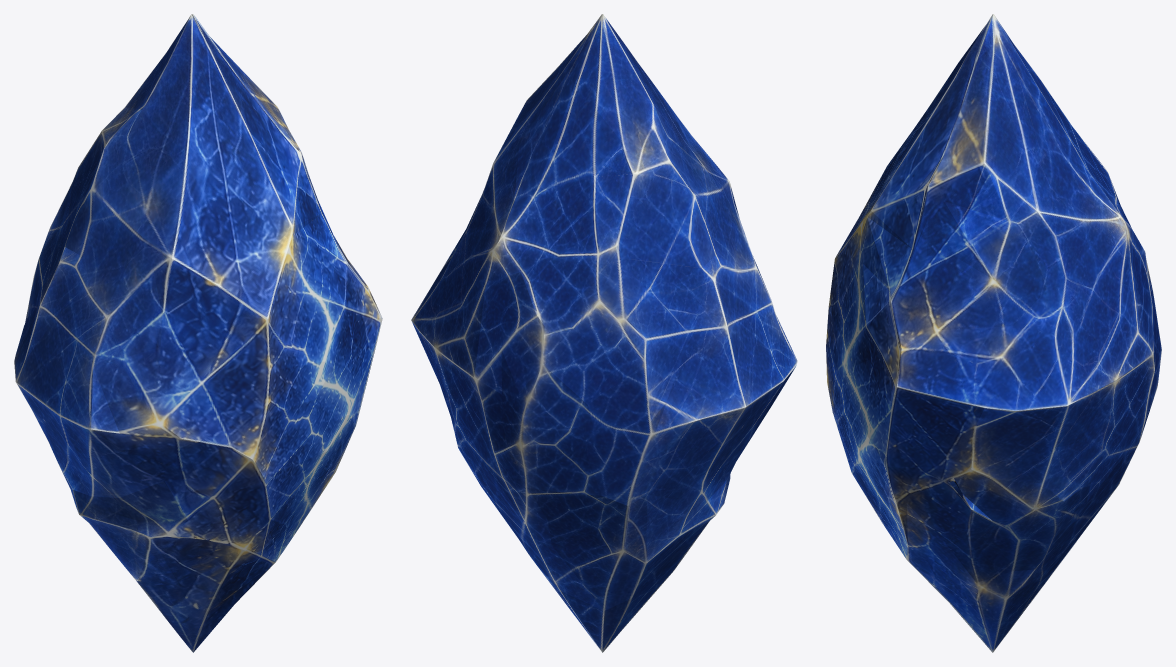
The model's file is SM_ElementGem_Electric.fbx.
3 renders of one model, left to right at view 1: azimuth 30°, elevation 25°; view 2: azimuth 150°, elevation 25°; view 3: azimuth 270°, elevation 25°, orthographic.
Parts seen in each view (by area): view 1: output_unwrapped; view 2: output_unwrapped; view 3: output_unwrapped.
Part boxes in pixels (bbox=[...]): output_unwrapped: bbox=[14, 14, 382, 652]; output_unwrapped: bbox=[411, 14, 797, 652]; output_unwrapped: bbox=[826, 14, 1161, 652].
Bounding box in the file's own units: 99.51 × 190 × 90.58.
Materials: 1 (1 with a texture image).
